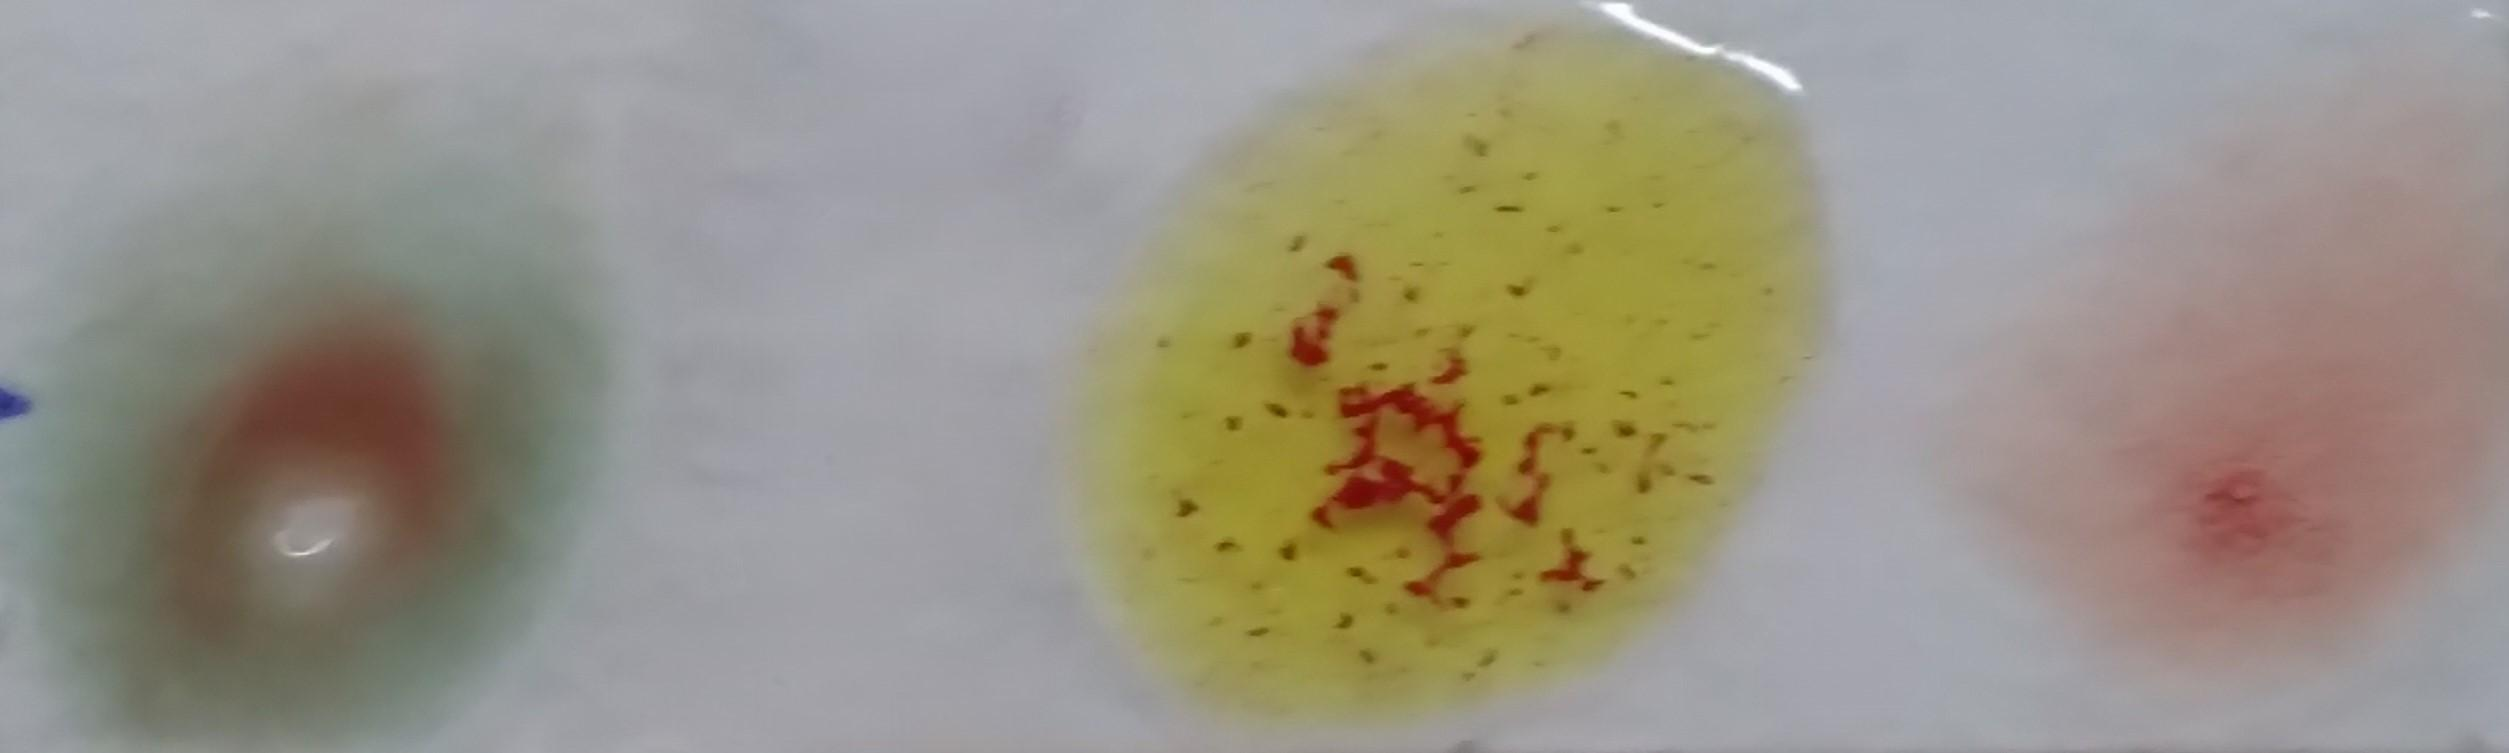B: (1165, 34, 1741, 707)
D: (2026, 261, 2416, 628)
